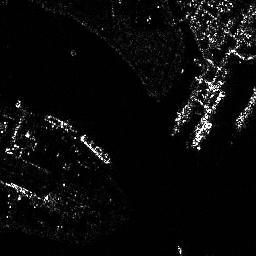ship: (190, 119, 215, 149)
